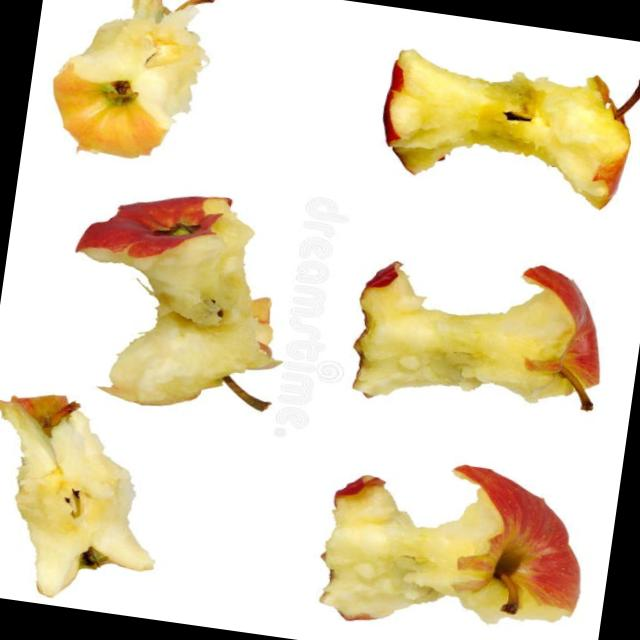apple_fruit: (51, 187, 294, 425), (305, 459, 586, 636), (337, 250, 610, 431), (368, 41, 640, 220), (0, 380, 171, 605), (34, 0, 222, 169)
